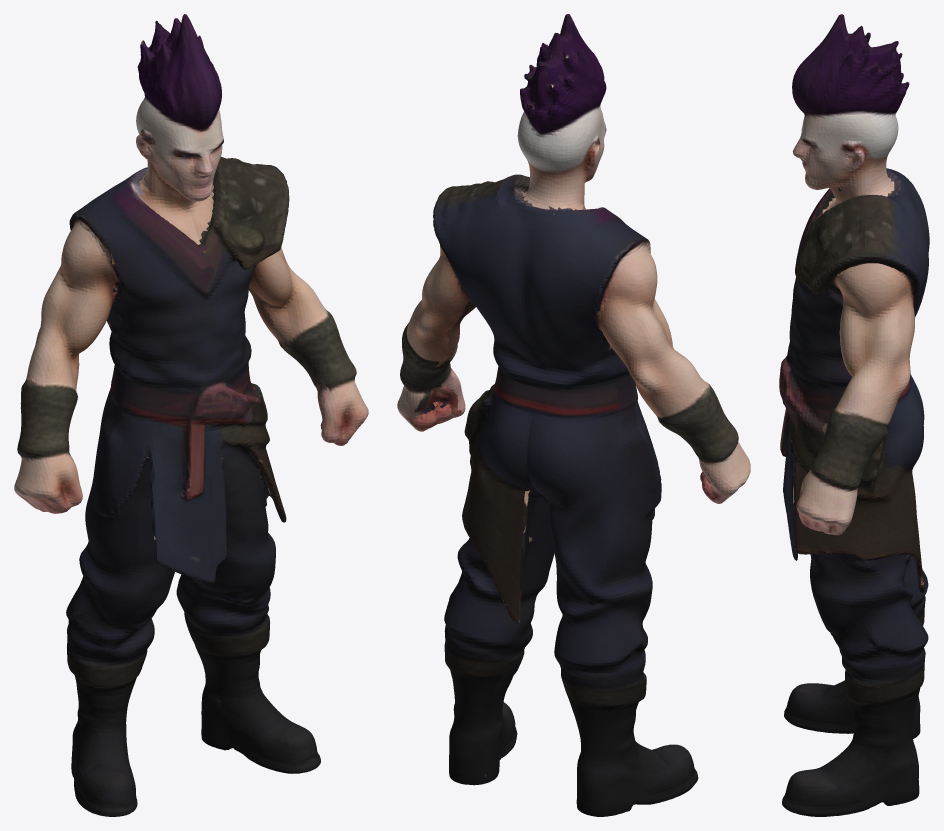
File: rhex.glb
3 views of the same model, side by side, from view 1: azimuth 30°, elevation 25°; view 2: azimuth 150°, elevation 25°; view 3: azimuth 270°, elevation 25° (orthographic).
Parts seen in each view (by area): view 1: tmpzasvftrw.ply; view 2: tmpzasvftrw.ply; view 3: tmpzasvftrw.ply.
Boxes of the visible parts, x1=… form: tmpzasvftrw.ply: x1=14, y1=14, x2=368, y2=816; tmpzasvftrw.ply: x1=397, y1=14, x2=750, y2=816; tmpzasvftrw.ply: x1=779, y1=14, x2=929, y2=816.
Size of the model in its own units: 0.9398 by 1.99 by 0.3617.
Materials: 1 (1 with a texture image).
